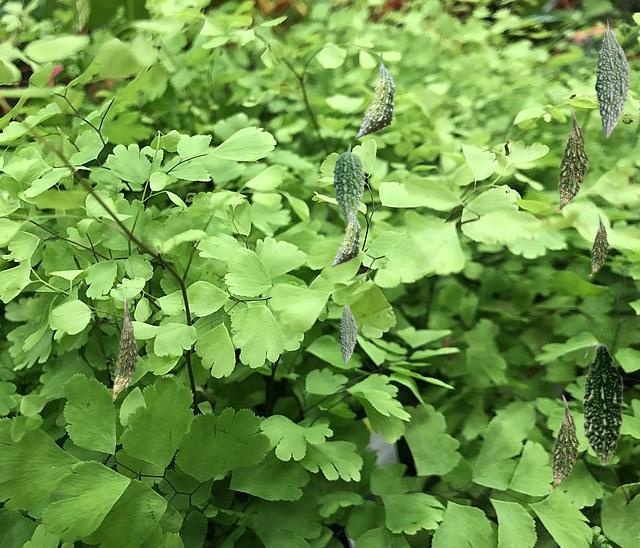ampalaya: (582, 341, 625, 465), (595, 19, 629, 137), (553, 104, 588, 211), (355, 53, 395, 138), (547, 394, 579, 490), (332, 143, 364, 223), (113, 298, 137, 400), (331, 203, 360, 266), (588, 212, 608, 275), (339, 300, 356, 363)
